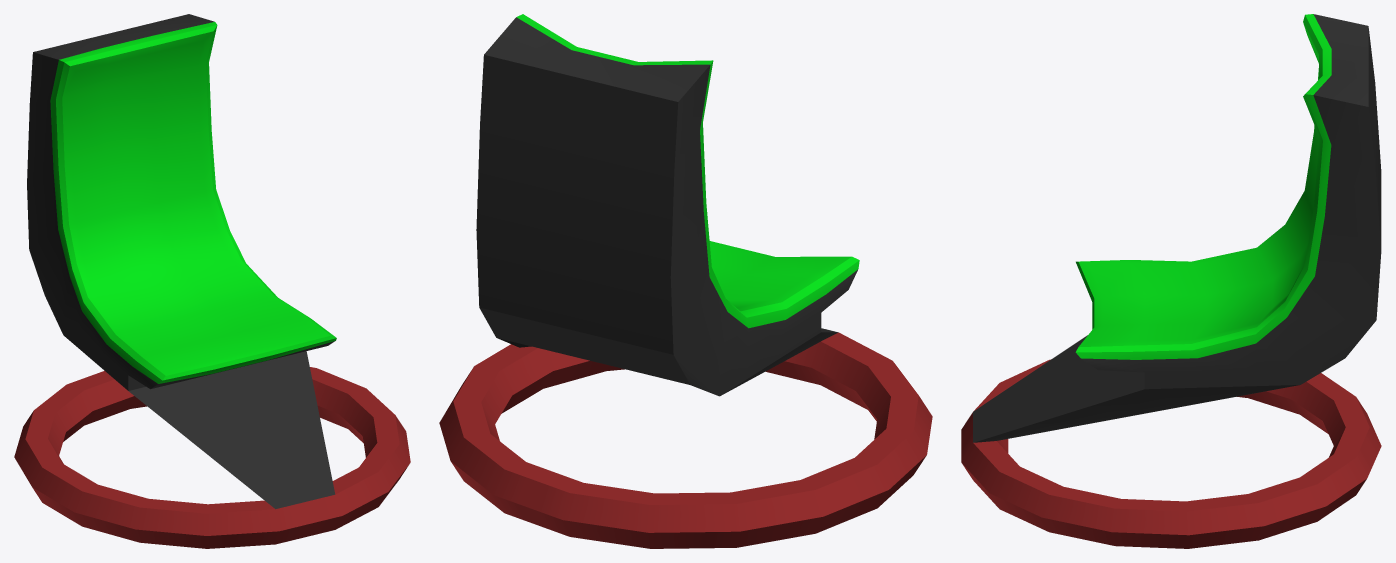
The model's file is chairExport.FBX.
3 renders of one model, left to right at view 1: azimuth 30°, elevation 25°; view 2: azimuth 150°, elevation 25°; view 3: azimuth 270°, elevation 25°, orthographic. The views are drawn at different scales.
Parts seen in each view (by area): view 1: Chair; view 2: Chair; view 3: Chair.
Part boxes in pixels (x1,y1,x2,y2): Chair: (14,14,410,548); Chair: (439,14,932,548); Chair: (961,14,1381,548).
Bounding box in the file's own units: 79.2 × 84.04 × 78.86.
